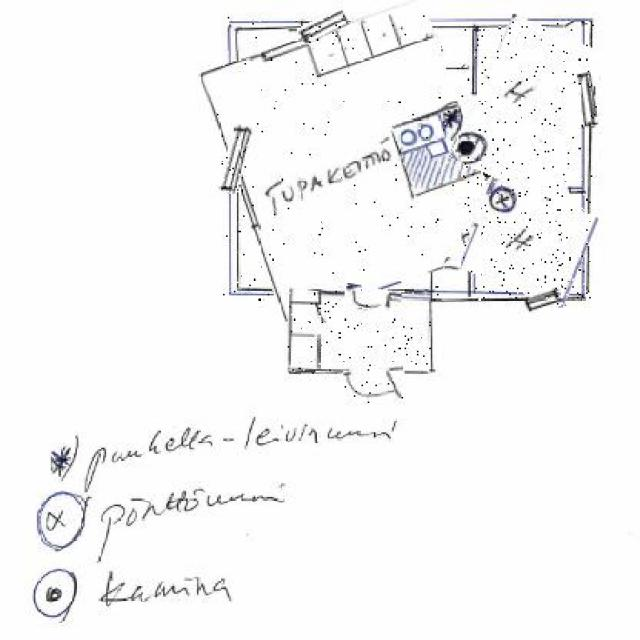door: (344, 368, 404, 403), (345, 286, 400, 314), (445, 257, 460, 274)
window: (222, 126, 249, 194), (298, 12, 349, 40), (578, 74, 597, 126), (526, 288, 563, 312)
zone: (217, 12, 489, 306), (463, 20, 594, 192), (464, 185, 590, 300), (288, 289, 430, 374)
